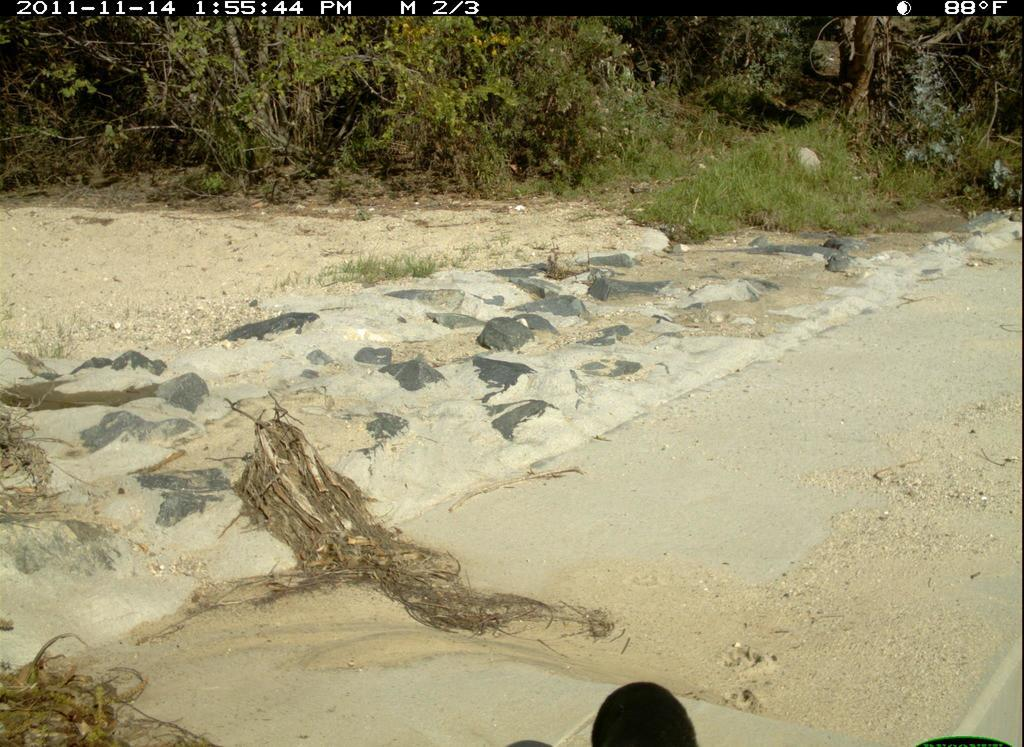cat: (537, 656, 821, 743)
